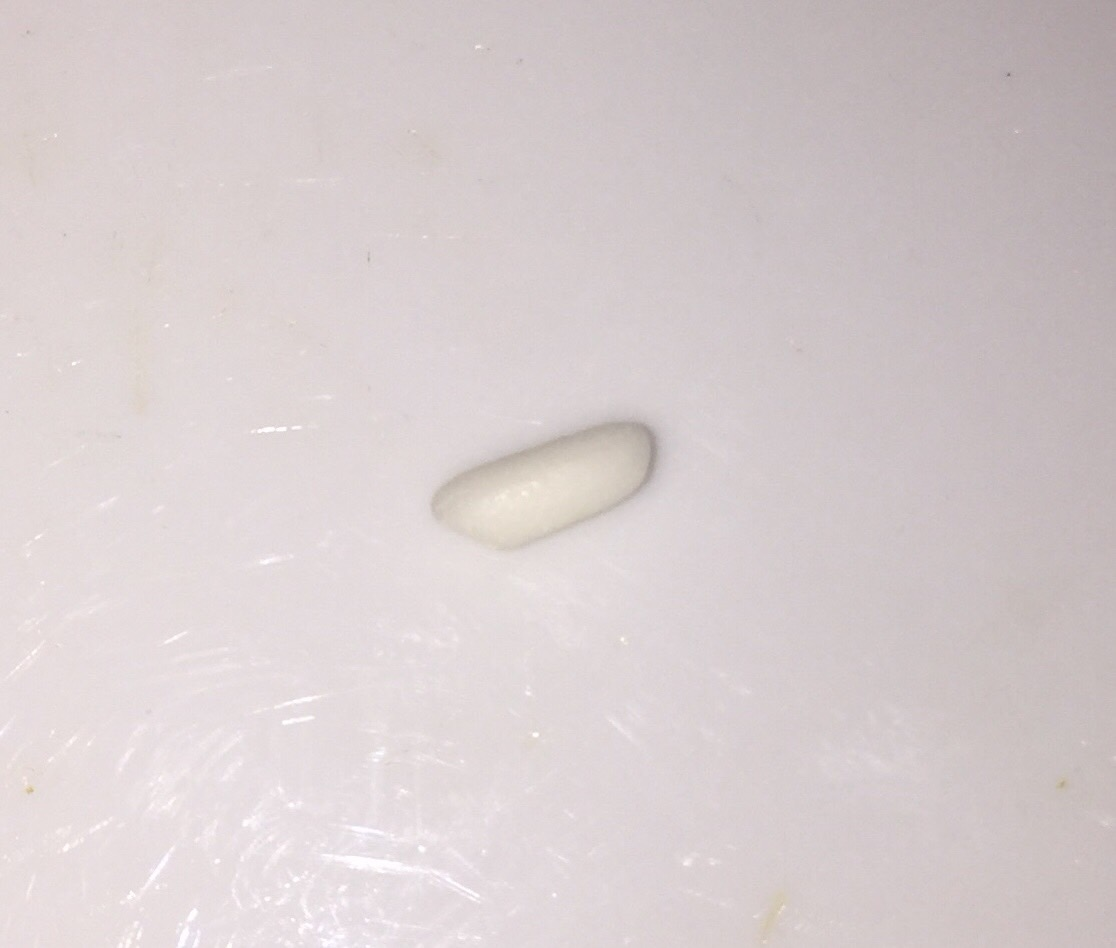Gao Nep Sap: (402, 403, 685, 575)
